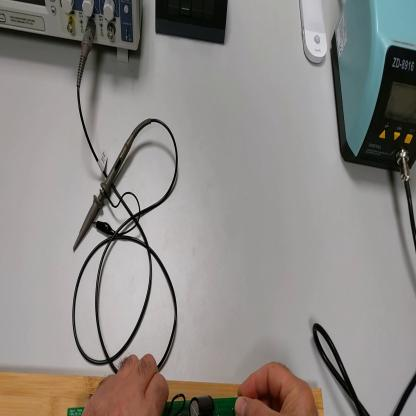hand: (83, 356, 169, 414), (237, 361, 317, 412)
high voltage board: (69, 396, 240, 413)
oscilloscope: (2, 2, 144, 61)
oscilloscope probe tip: (75, 126, 136, 253)
welder station: (331, 3, 416, 173)
working area: (1, 371, 326, 415)
